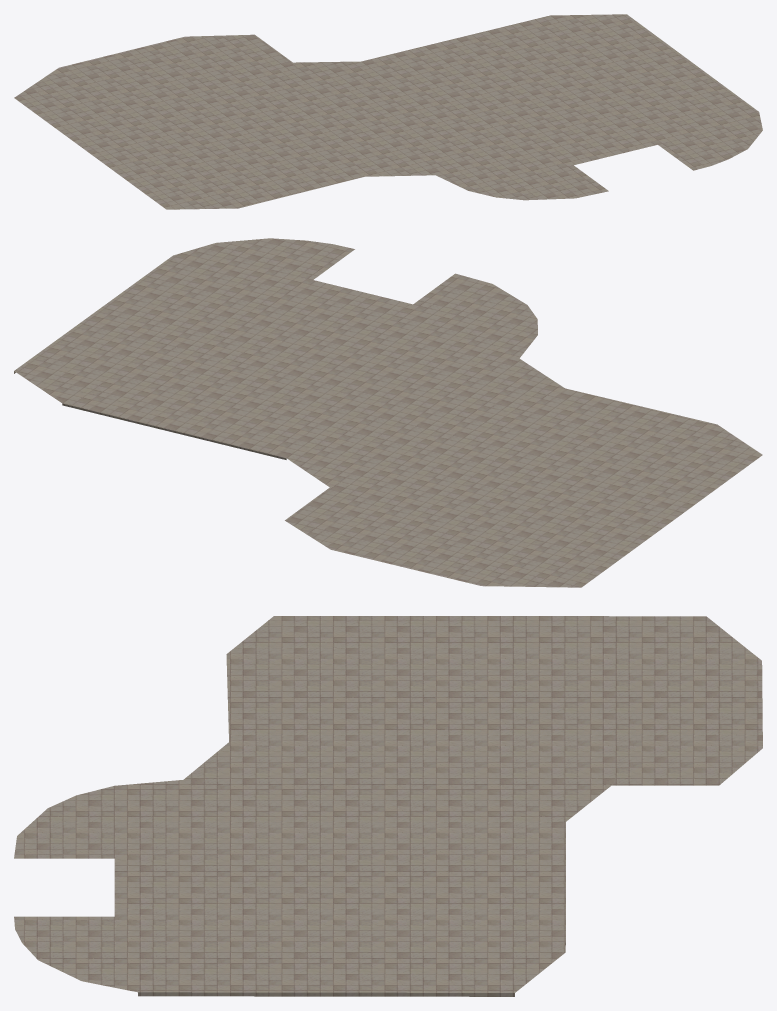
The model's file is cs_lobbynew02_Terrains_dizhuan_02.FBX.
3 renders of one model, top to bottom at view 1: azimuth 30°, elevation 25°; view 2: azimuth 150°, elevation 25°; view 3: azimuth 270°, elevation 25°, orthographic. The views are drawn at different scales.
Visible parts, largest first — view 1: cs_lobbynew02_Terrains_dizhuan_02; view 2: cs_lobbynew02_Terrains_dizhuan_02; view 3: cs_lobbynew02_Terrains_dizhuan_02.
Part boxes in pixels (box(x1,y1,x2,y2)): cs_lobbynew02_Terrains_dizhuan_02: box(14, 14, 762, 209); cs_lobbynew02_Terrains_dizhuan_02: box(14, 238, 762, 587); cs_lobbynew02_Terrains_dizhuan_02: box(14, 616, 762, 996).
Size of the model in its own units: 4490 by 21.68 by 3771.
